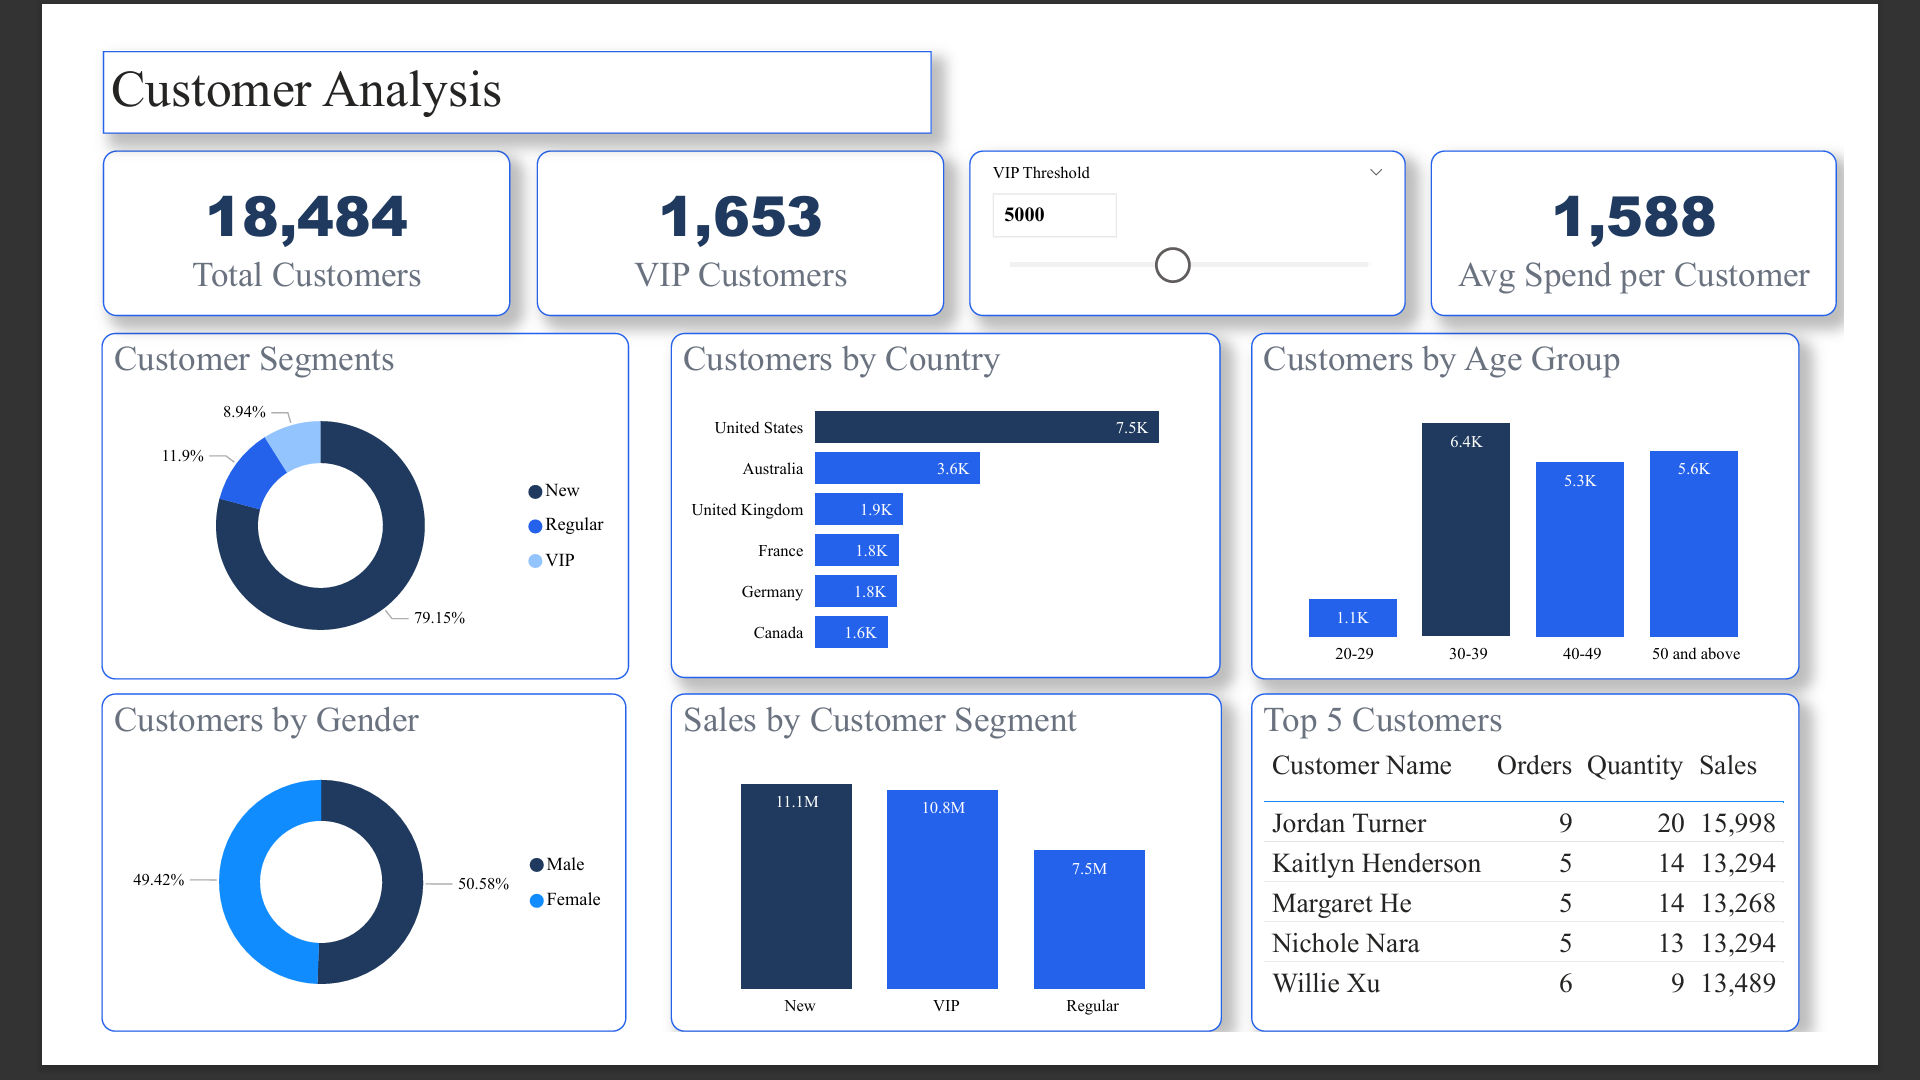

This screenshot's page, from the dashboard's own definition file:
{"tool":"powerbi","page":{"name":"Customer Analysis","canvas":[1280,720],"ordinal":1},"visuals":[{"type":"card","fields":{"Values":["gold report_customers.VIP Customers"]},"box":[334,82.1,294.7,119.8],"z":0},{"type":"slicer","fields":{"Values":["VIP Threshold.VIP Threshold"]},"box":[647.2,82.2,315.5,119.8],"z":1000},{"type":"donutChart","title":"Customer Segments","fields":{"Category":["gold report_customers.customer_segment"],"Y":["Count(gold report_customers.customer_key)"]},"box":[19.2,214.1,381.5,251.1],"z":2000},{"type":"clusteredBarChart","title":"Customers by Country","fields":{"Category":["gold dim_customers.country"],"Y":["Count(gold dim_customers.customer_key)"]},"box":[430.6,213.8,398.6,250.7],"z":3000},{"type":"clusteredColumnChart","title":"Customers by Age Group","fields":{"Category":["gold report_customers.age_group"],"Y":["Count(gold report_customers.customer_key)"]},"box":[851,213.5,396.6,251.1],"z":4000},{"type":"card","fields":{"Values":["gold fact_sales.total_customers"]},"box":[19.6,81.9,295.9,119.8],"z":5000},{"type":"textbox","box":[19.6,9.8,600.4,59.9],"z":6000},{"type":"donutChart","title":"Customers by Gender","fields":{"Category":["gold dim_customers.gender"],"Y":["gold fact_sales.total_customers"]},"box":[19.2,474.8,380.1,245.6],"z":7000},{"type":"card","fields":{"Values":["Avg(gold report_customers.total_sales)"]},"box":[981.1,82.4,293.7,119.4],"z":8000},{"type":"clusteredColumnChart","title":"Sales by Customer Segment","fields":{"Category":["gold report_customers.customer_segment"],"Y":["Sum(gold report_customers.total_sales)"]},"box":[431,475,399,245],"z":9000},{"type":"tableEx","title":"Top 5 Customers","fields":{"Values":["gold report_customers.customer_name","Sum(gold report_customers.total_orders)","Sum(gold report_customers.total_quantity)","Sum(gold report_customers.total_sales)"]},"box":[851,475,397,245],"z":10000}]}

Visuals, with their boxes in screenshot pixels (x1, y1, x2, y2), scaled from the page's 1280x720 canvas onto the 1920x1080 screenshot:
card - gold report_customers.VIP Customers: bbox(501, 123, 943, 303)
slicer - VIP Threshold.VIP Threshold: bbox(971, 123, 1444, 303)
"Customer Segments" donutChart: bbox(29, 321, 601, 698)
"Customers by Country" clusteredBarChart: bbox(646, 321, 1244, 697)
"Customers by Age Group" clusteredColumnChart: bbox(1276, 320, 1871, 697)
card - gold fact_sales.total_customers: bbox(29, 123, 473, 303)
textbox: bbox(29, 15, 930, 105)
"Customers by Gender" donutChart: bbox(29, 712, 599, 1079)
card - Avg(gold report_customers.total_sales): bbox(1472, 124, 1912, 303)
"Sales by Customer Segment" clusteredColumnChart: bbox(646, 712, 1245, 1079)
"Top 5 Customers" tableEx: bbox(1276, 712, 1872, 1079)
